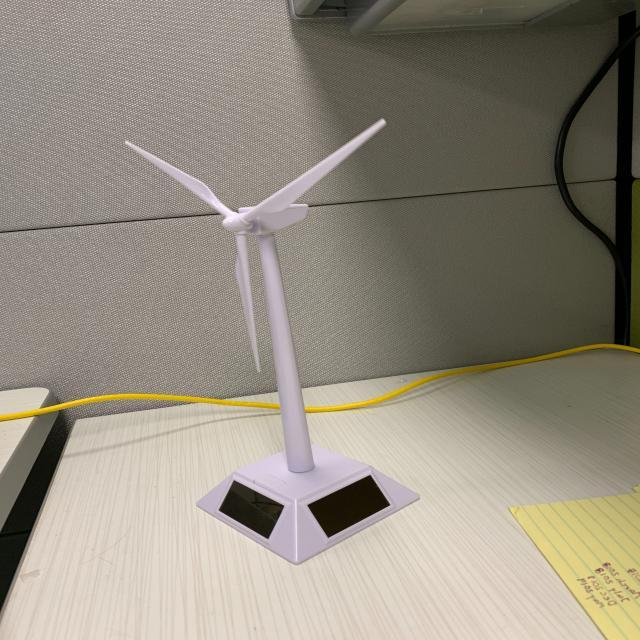solid-blade: (252, 120, 386, 214), (125, 141, 235, 217), (235, 234, 260, 371)
